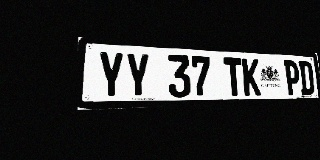3: (168, 54, 191, 98)
7: (190, 56, 212, 97)
D: (298, 61, 315, 95)
K: (242, 58, 261, 96)
P: (284, 60, 301, 95)
T: (223, 57, 244, 96)
Y: (97, 51, 124, 99), (125, 52, 150, 98)
